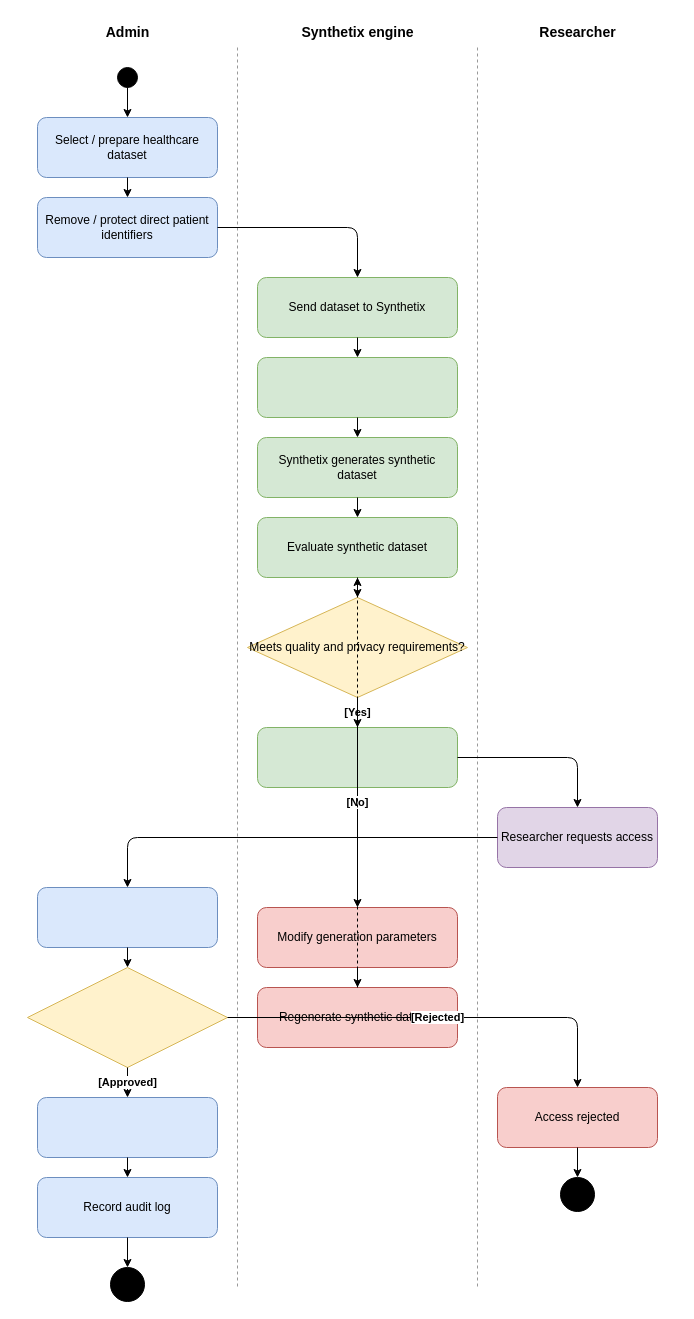
Image size: 694x1319. Some labels were removed from this diagram. Here are the shapes that lost their labels. From the top down, the box of each, then its label:
(256, 356, 458, 418): Synthetix analyzes data patterns
(256, 726, 458, 788): Synthetic dataset ready
(36, 886, 218, 948): Admin reviews access request
(26, 966, 228, 1068): Access approved?
(36, 1096, 218, 1158): Provide synthetic dataset
